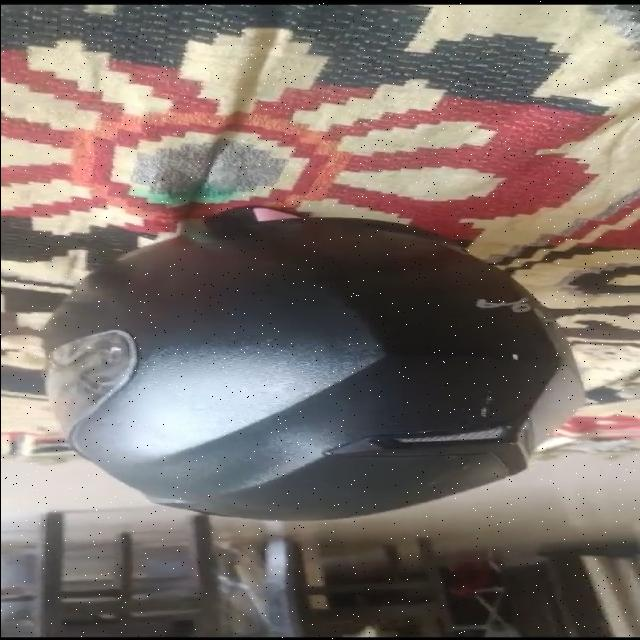Helmet: (44, 207, 582, 519)
